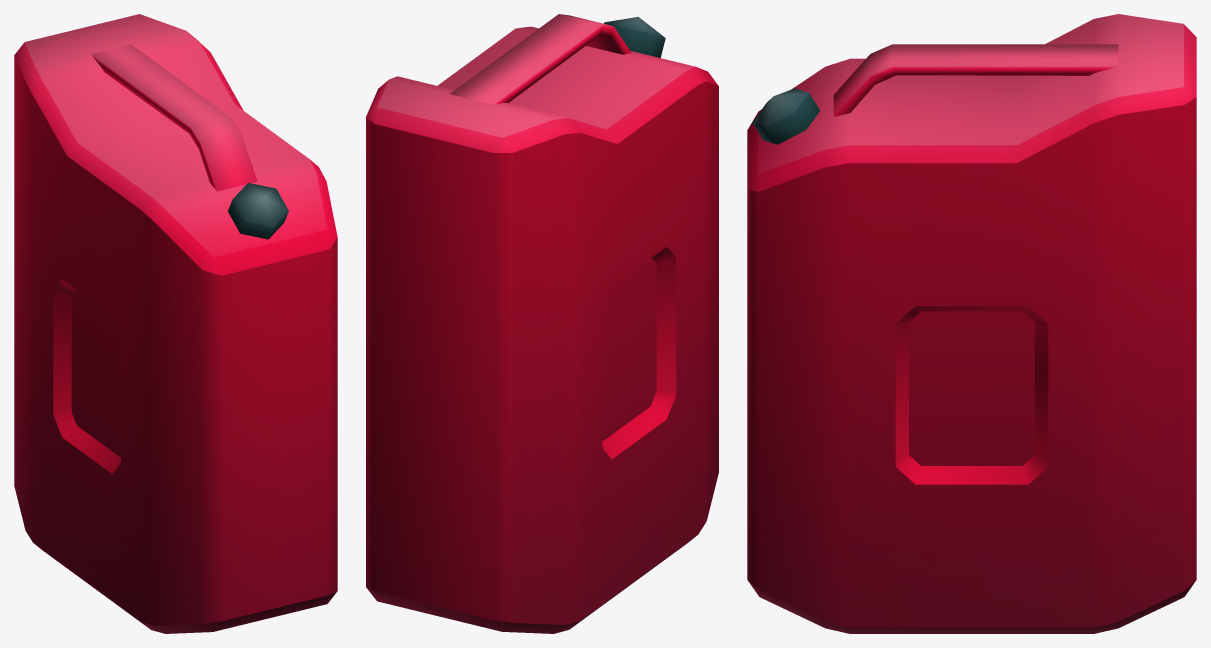
Rendered from Gas_Cannister_1A.fbx.
The picture shows the model from 3 angles, left to right: view 1: azimuth 30°, elevation 25°; view 2: azimuth 150°, elevation 25°; view 3: azimuth 270°, elevation 25°; orthographic projection. The views are drawn at different scales.
Parts seen in each view (by area): view 1: Gas_Cannister_1A; view 2: Gas_Cannister_1A; view 3: Gas_Cannister_1A.
Boxes of the visible parts, bbox=[...] form: Gas_Cannister_1A: bbox=[14, 14, 337, 633]; Gas_Cannister_1A: bbox=[366, 14, 718, 633]; Gas_Cannister_1A: bbox=[747, 14, 1196, 633].
Size of the model in its own units: 18 by 46 by 35.
